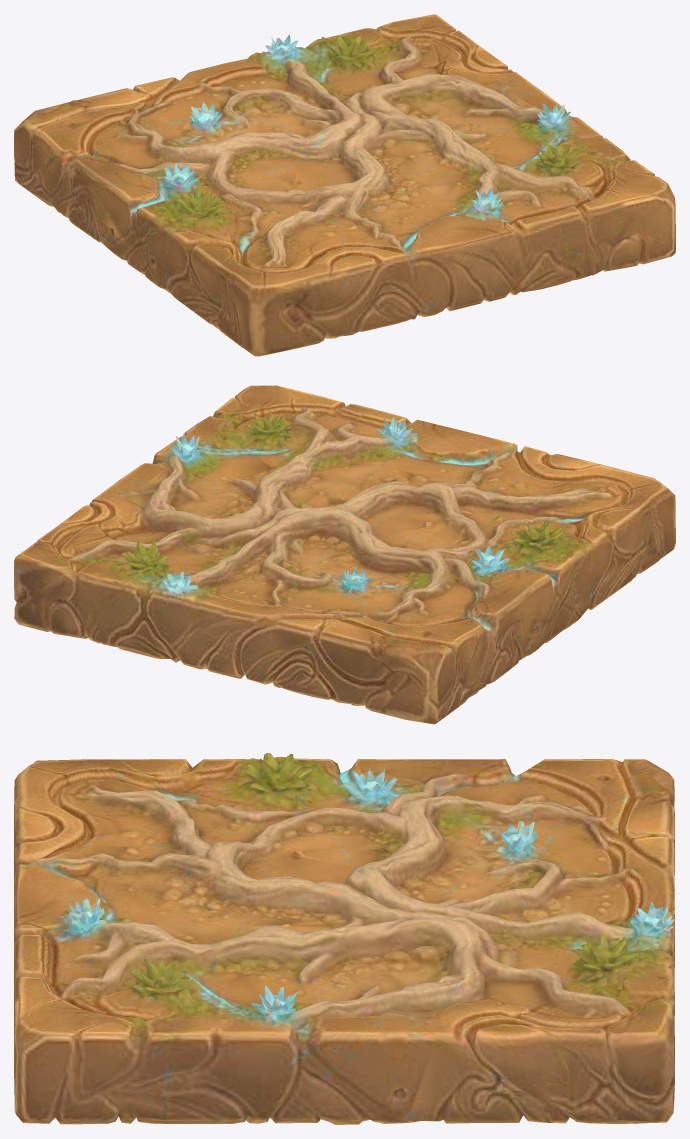
The model's file is root-bound-path.glb.
The picture shows the model from 3 angles, top to bottom: view 1: azimuth 30°, elevation 25°; view 2: azimuth 150°, elevation 25°; view 3: azimuth 270°, elevation 25°; orthographic projection. The views are drawn at different scales.
Size of the model in its own units: 1.9 by 0.4251 by 1.9.
Materials: 1 (1 with a texture image).
